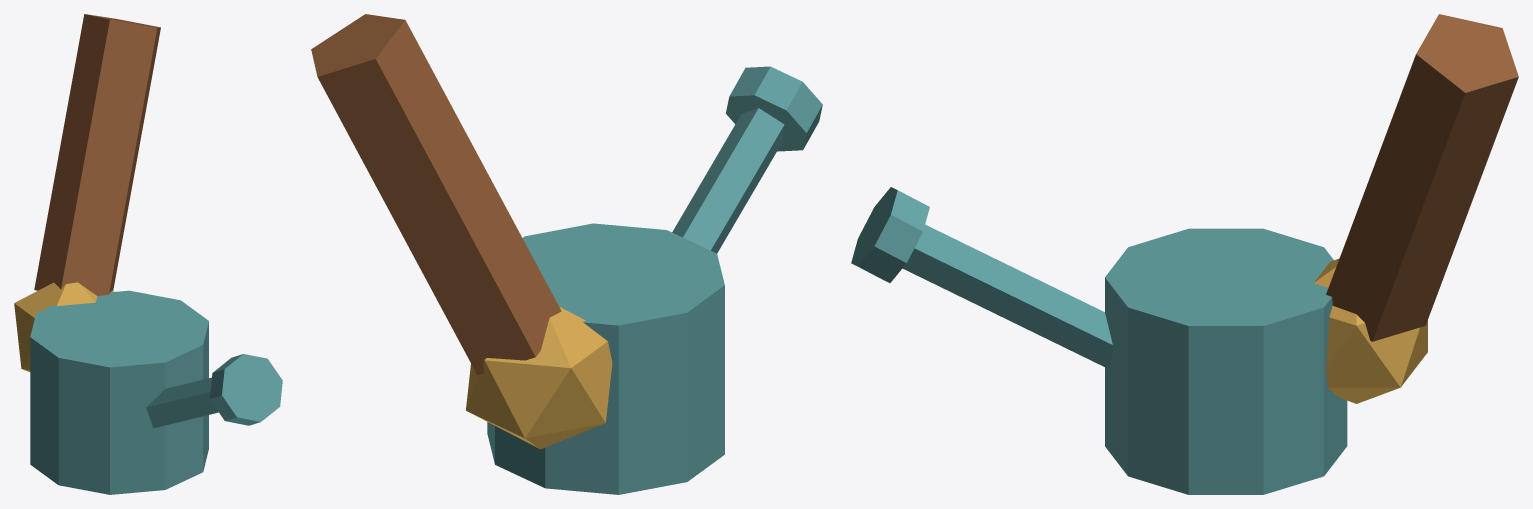
Rendered from robot_arm.glb.
The picture shows the model from 3 angles, left to right: view 1: azimuth 30°, elevation 25°; view 2: azimuth 150°, elevation 25°; view 3: azimuth 270°, elevation 25°; orthographic projection. The views are drawn at different scales.
Parts seen in each view (by area): view 1: robot_arm; view 2: robot_arm; view 3: robot_arm.
Part boxes in pixels (x1=…): robot_arm: x1=14, y1=14, x2=282, y2=494; robot_arm: x1=311, y1=14, x2=822, y2=494; robot_arm: x1=851, y1=14, x2=1518, y2=494.
Size of the model in its own units: 0.1699 by 0.2829 by 0.3582.
